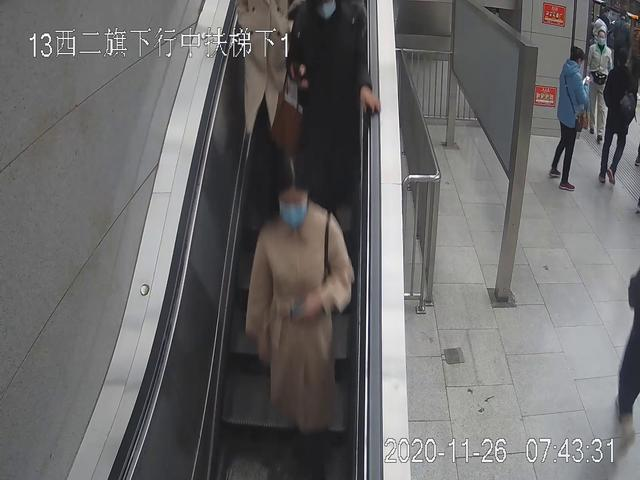person: (245, 159, 353, 470), (290, 3, 383, 242), (232, 2, 303, 241), (548, 48, 588, 193), (599, 48, 635, 185), (587, 30, 614, 147)
